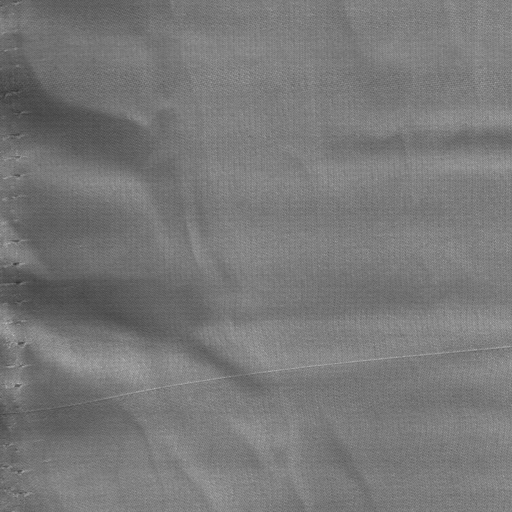defect: (2, 400, 78, 420)
